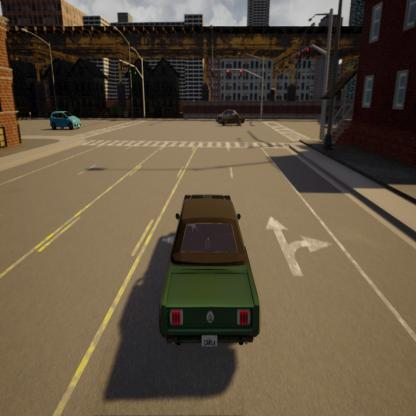Cars: (147, 180, 266, 363), (47, 108, 83, 136), (212, 106, 242, 124), (216, 112, 248, 128)
